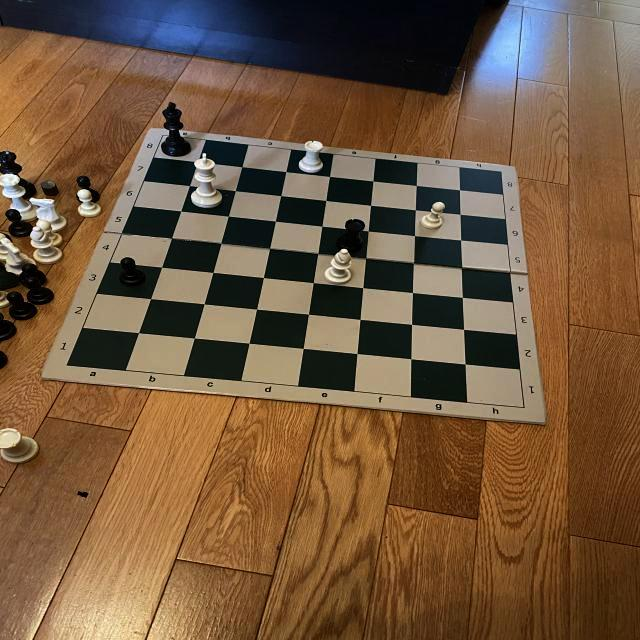chess-table-corners: (60, 362, 76, 370), (516, 402, 532, 410), (494, 167, 507, 176), (156, 132, 168, 139)
